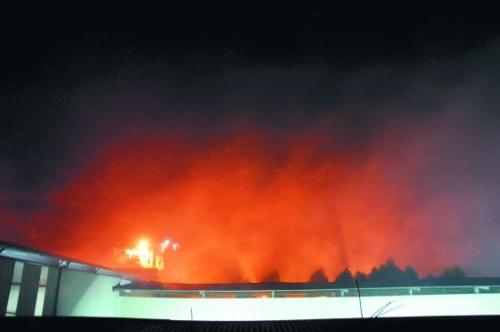fire: (108, 227, 207, 281)
